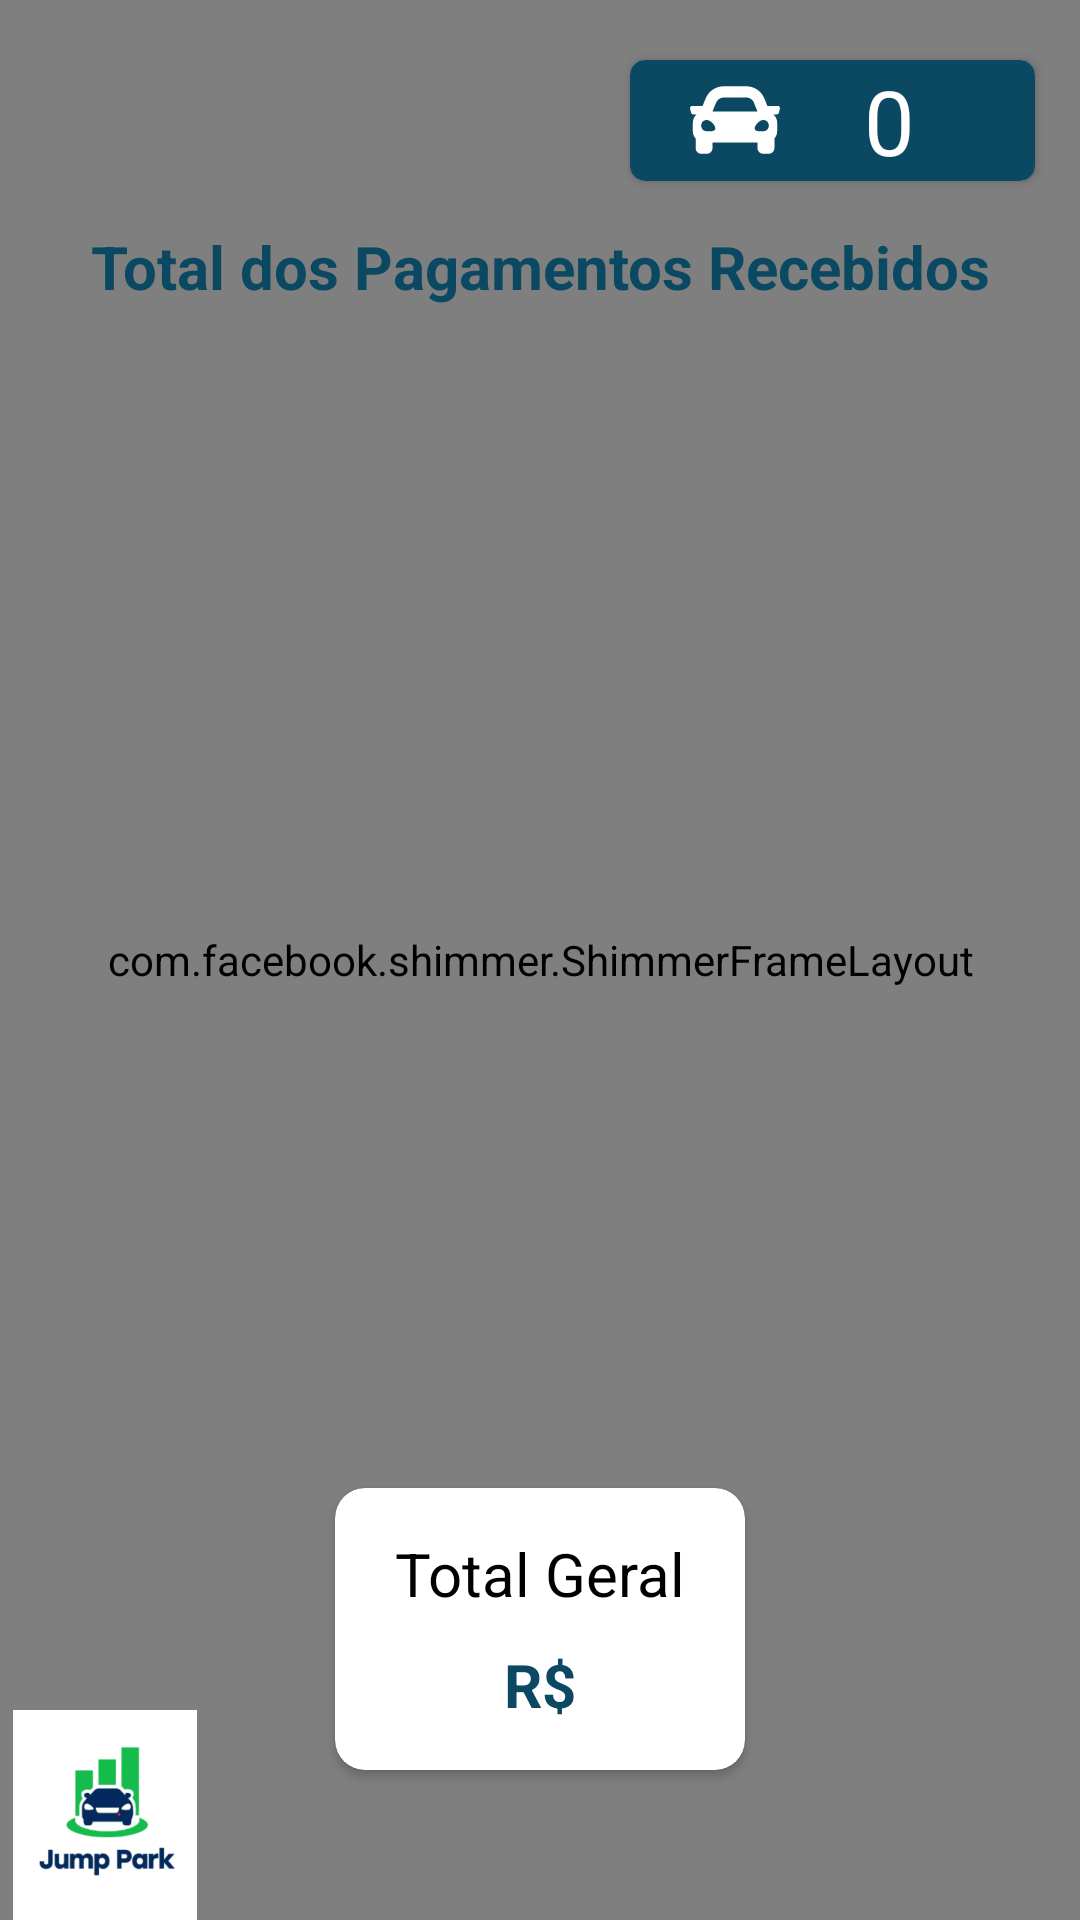

Icon bounding boxes for this 1080px x 1920px phone screenshot, format [left=x1, top=y1, right=x2, bottom=y2]:
car: [left=690, top=86, right=780, bottom=154]
